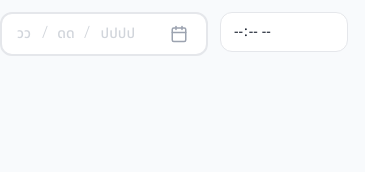
Scenario: DateTimePickerTH › disables the time field until a date is chosen, then enables it
Expected: the time field named "เวลาที่ทดสอบ" is disabled, top-left (220, 12), bottom-right (348, 52)
Step 1. Type "15" into the field named "วันที่ทดสอบ" → (24, 34), box top-left (6, 18), bottom-right (42, 50)
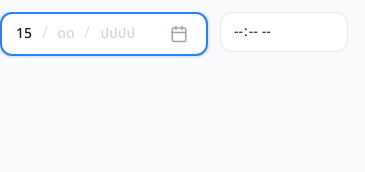
Step 2. Type "09" into the field named "เดือน" → (66, 34), box top-left (48, 18), bottom-right (84, 50)
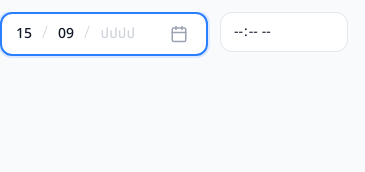
Step 3. Type "2569" into the field named "ปี พ.ศ." → (118, 34), box top-left (90, 18), bottom-right (146, 50)
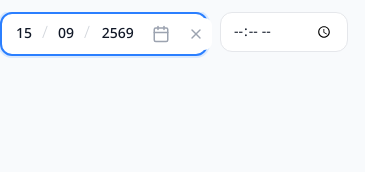
Result: the time field named "เวลาที่ทดสอบ" is enabled at top-left (220, 12), bottom-right (348, 52)
